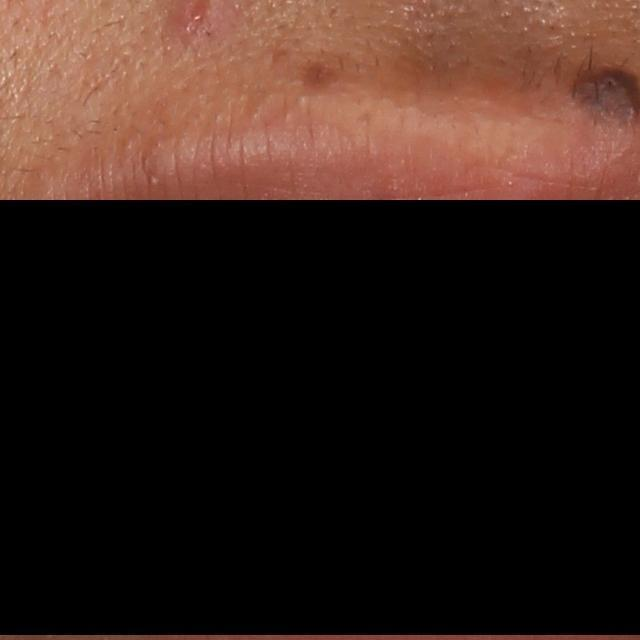nevus: (573, 64, 636, 122)
